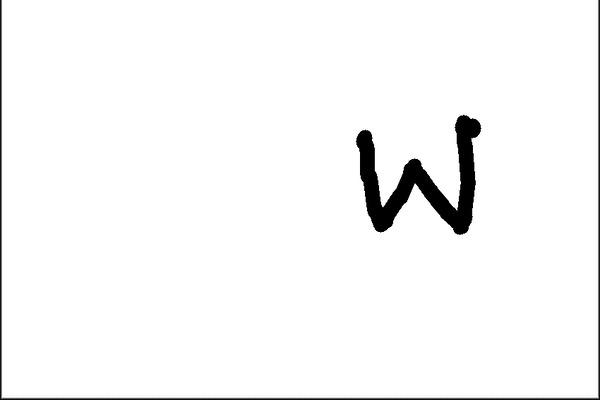w: (322, 100, 531, 239)
